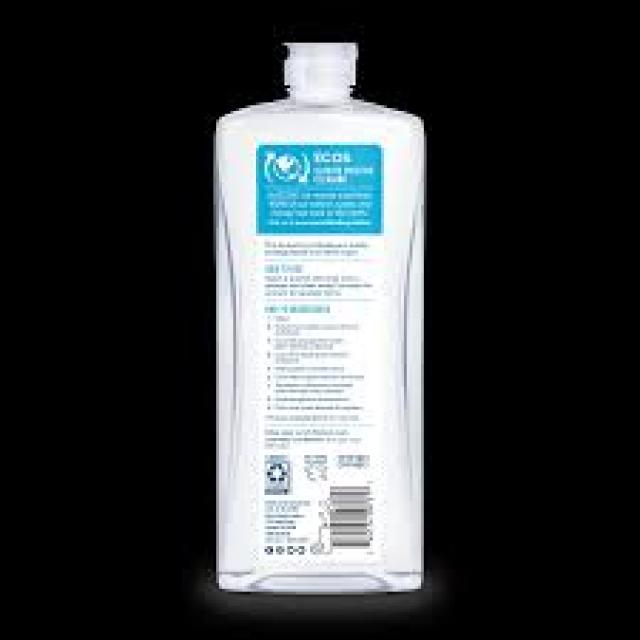liquid soap: (211, 45, 431, 593)
